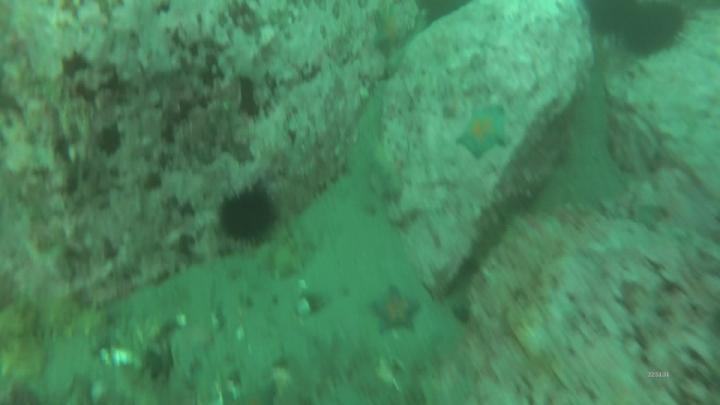echinus: (631, 5, 684, 53), (225, 197, 277, 244), (591, 3, 639, 28)
holothurian: (36, 309, 108, 335)
starfish: (461, 111, 505, 155), (373, 291, 421, 331)
